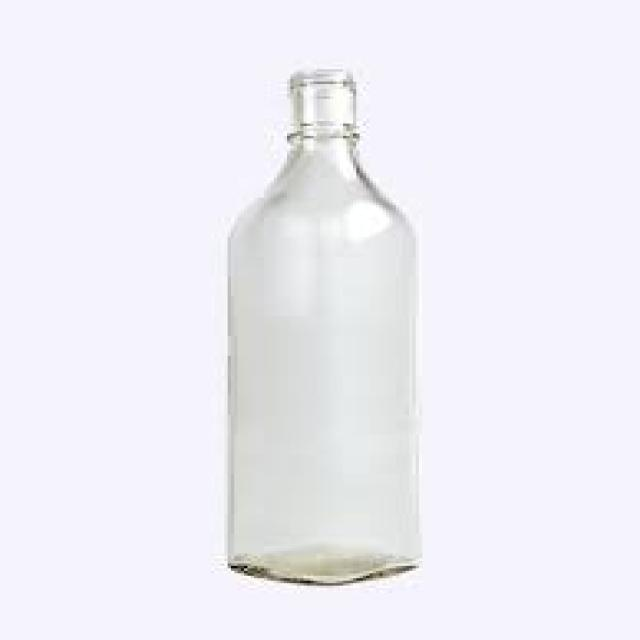glass: (228, 64, 416, 583)
